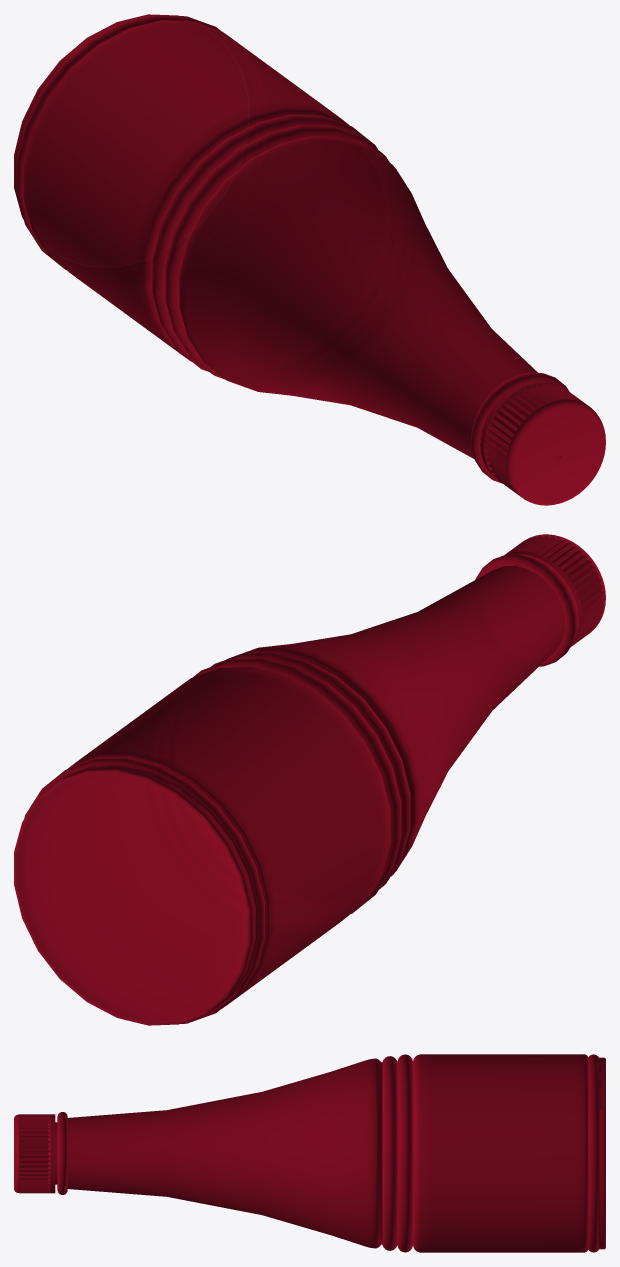
The model's file is model_align.obj.
3 views of the same model, one above another, from view 1: azimuth 30°, elevation 25°; view 2: azimuth 150°, elevation 25°; view 3: azimuth 270°, elevation 25° (orthographic). The views are drawn at different scales.
Visible parts, largest first — view 1: mesh12_mesh12-geometry, mesh1_mesh1-geometry, mesh5_mesh5-geometry, mesh11_mesh11-geometry, mesh7_mesh7-geometry; view 2: mesh12_mesh12-geometry, mesh13_mesh13-geometry, mesh5_mesh5-geometry, mesh11_mesh11-geometry, mesh7_mesh7-geometry; view 3: mesh12_mesh12-geometry, mesh5_mesh5-geometry, mesh11_mesh11-geometry, mesh7_mesh7-geometry, mesh1_mesh1-geometry.
Part boxes in pixels (x1=…): mesh12_mesh12-geometry: x1=14, y1=14, x2=537, y2=458; mesh1_mesh1-geometry: x1=506, y1=399, x2=605, y2=505; mesh5_mesh5-geometry: x1=484, y1=383, x2=585, y2=495; mesh11_mesh11-geometry: x1=471, y1=372, x2=569, y2=483; mesh7_mesh7-geometry: x1=480, y1=380, x2=564, y2=479; mesh12_mesh12-geometry: x1=14, y1=566, x2=564, y2=1025; mesh13_mesh13-geometry: x1=15, y1=772, x2=248, y2=1023; mesh5_mesh5-geometry: x1=505, y1=535, x2=604, y2=646; mesh11_mesh11-geometry: x1=475, y1=554, x2=577, y2=666; mesh7_mesh7-geometry: x1=491, y1=551, x2=582, y2=653; mesh12_mesh12-geometry: x1=67, y1=1054, x2=605, y2=1252; mesh5_mesh5-geometry: x1=19, y1=1114, x2=49, y2=1193; mesh11_mesh11-geometry: x1=57, y1=1112, x2=67, y2=1194; mesh7_mesh7-geometry: x1=47, y1=1114, x2=55, y2=1193; mesh1_mesh1-geometry: x1=14, y1=1114, x2=19, y2=1192.
Bounding box in the file's own units: 0.0525 × 0.0525 × 0.1582.
